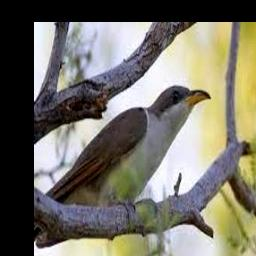Cuckoo: (43, 84, 210, 207)
